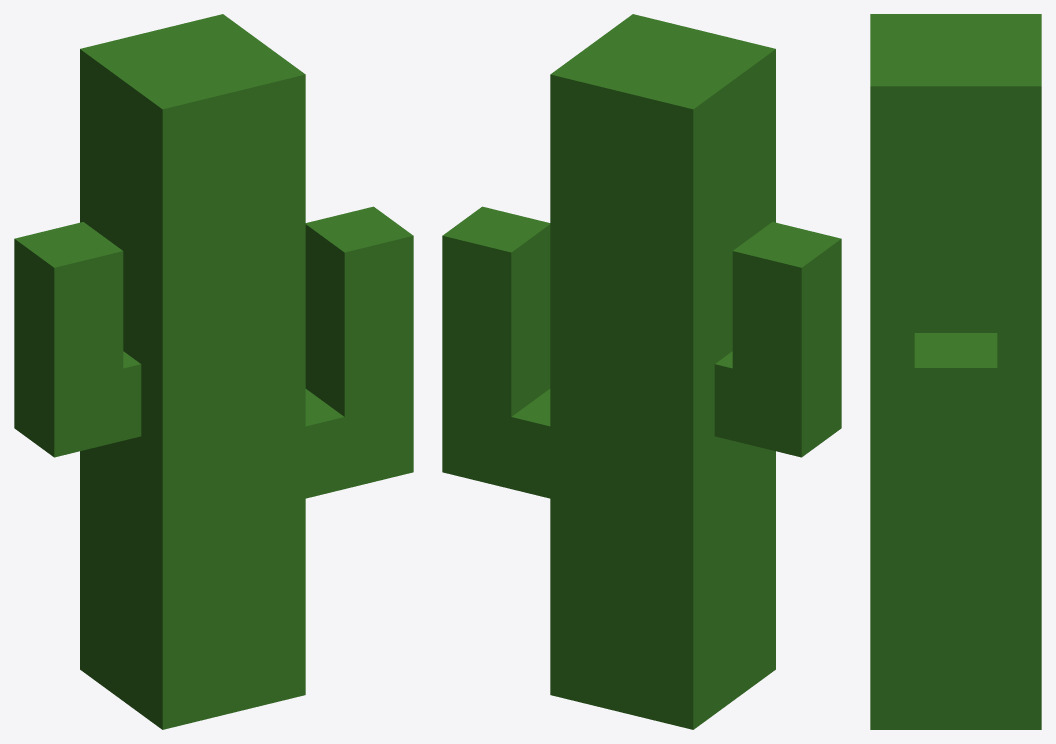
The model's file is Desert_Cactus2.glb.
The picture shows the model from 3 angles, left to right: view 1: azimuth 30°, elevation 25°; view 2: azimuth 150°, elevation 25°; view 3: azimuth 270°, elevation 25°; orthographic projection. The views are drawn at different scales.
Parts seen in each view (by area): view 1: Cube.012; view 2: Cube.012; view 3: Cube.012.
Part boxes in pixels (x1,y1,x2,y2): Cube.012: [14, 14, 413, 729]; Cube.012: [442, 14, 841, 729]; Cube.012: [870, 14, 1041, 729].
Bounding box in the file's own units: 1.41 × 2.33 × 0.562.
Materials: 1 (1 with a texture image).
